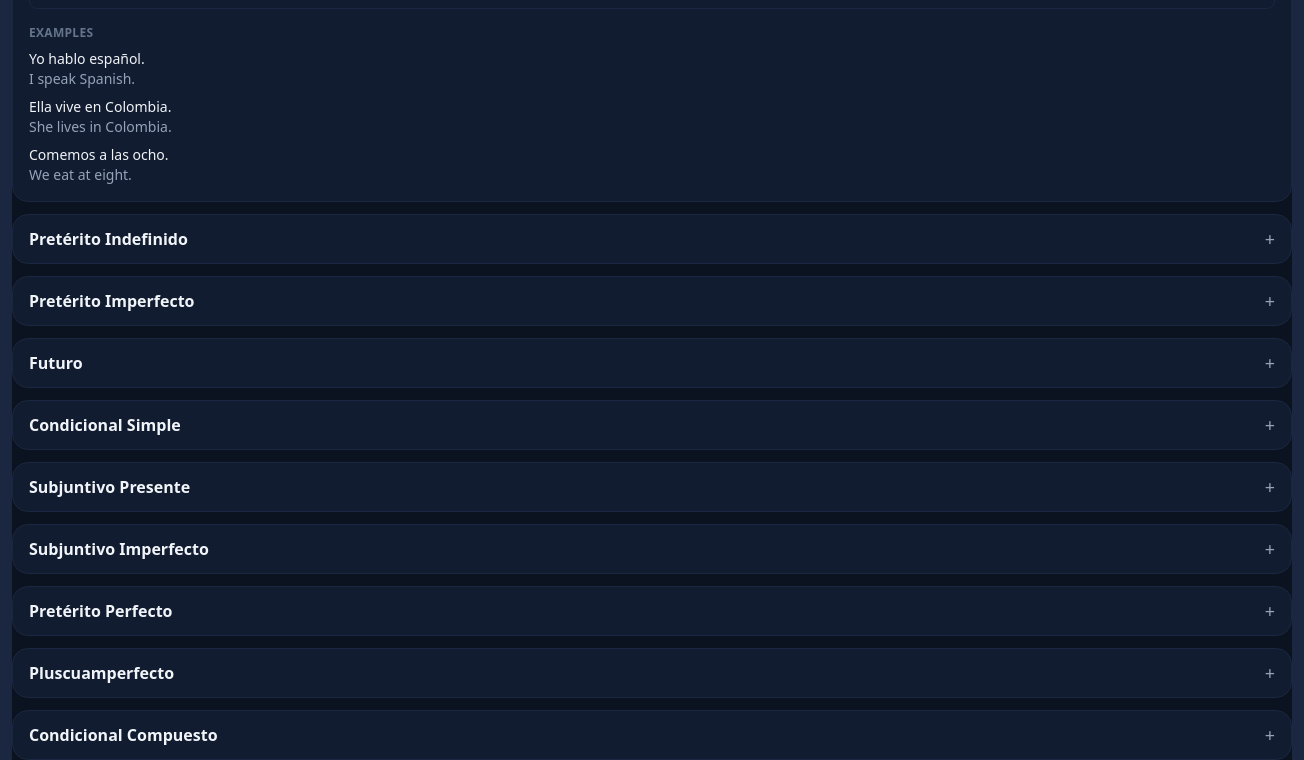
ConjugationExplanations › shows irregular participles for a compound tense
(page scrolled)
Click the text "Pretérito Perfecto".
click(101, 611)  # box x1=29 y1=599 x2=172 y2=623
(page scrolled)
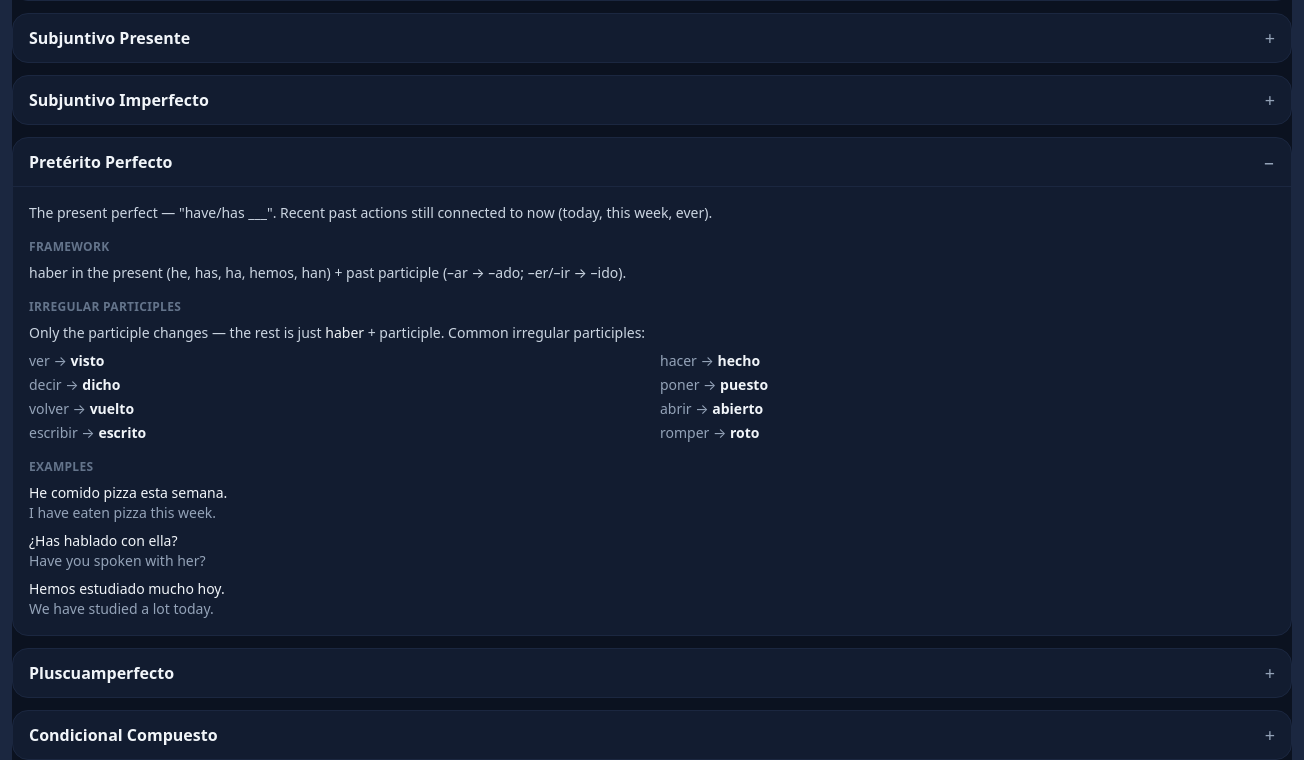
Check: the text "haber in the present" is shown, box x1=29 y1=263 x2=626 y2=282
Check: the heading "Irregular participles" is shown, box x1=29 y1=298 x2=181 y2=315
Check: the text "visto" is shown, box x1=70 y1=351 x2=104 y2=370
